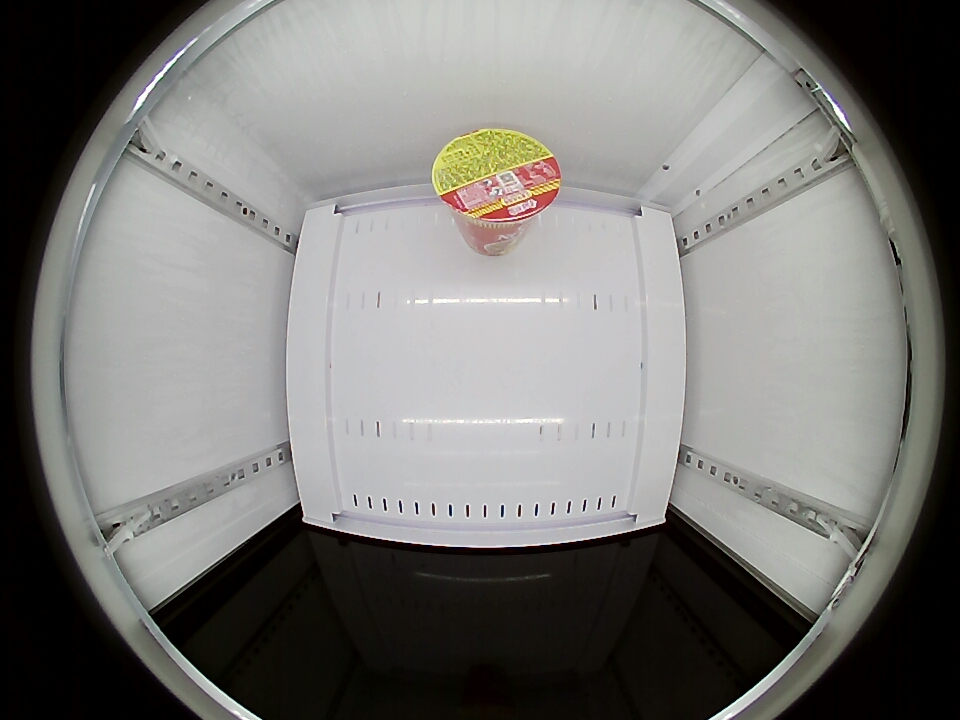heweidao3: (432, 128, 561, 231)
